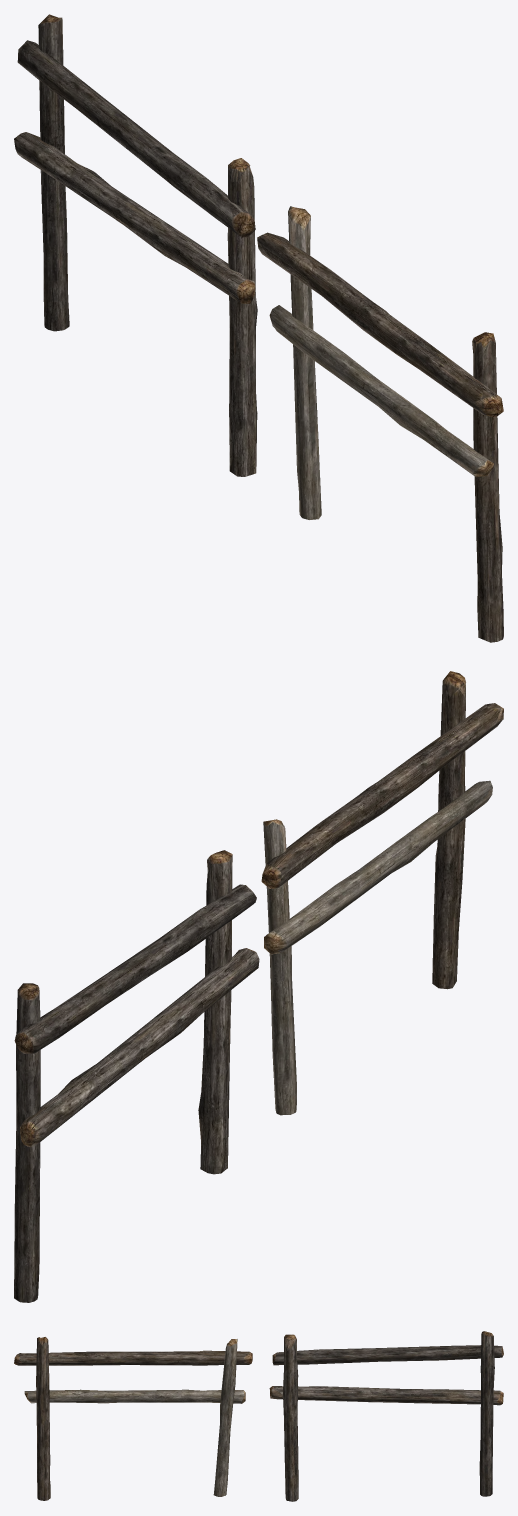
The model's file is o_mdl_env_propFenceLogB-transformed.glb.
3 renders of one model, top to bottom at view 1: azimuth 30°, elevation 25°; view 2: azimuth 150°, elevation 25°; view 3: azimuth 270°, elevation 25°, orthographic. The views are drawn at different scales.
Visible parts, largest first — view 1: default; view 2: default; view 3: default.
Part boxes in pixels (box(x1,y1,x2,y2)): default: box(14, 14, 503, 642); default: box(14, 671, 503, 1302); default: box(14, 1331, 503, 1501).
Size of the model in its own units: 0.3468 by 2.09 by 5.59.
1 material, 1 textured.
